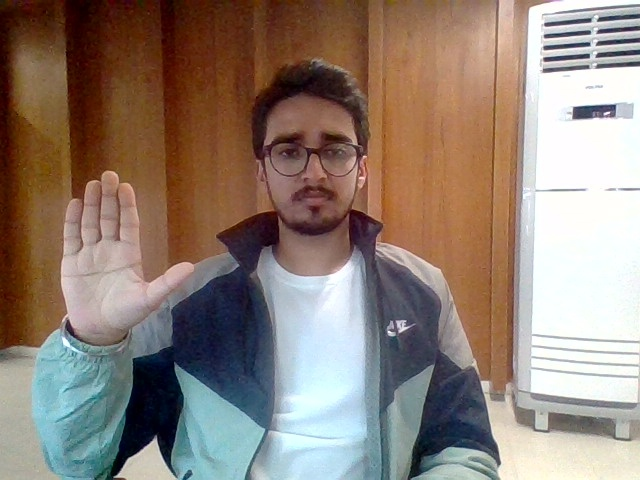HELLO: (56, 167, 200, 331)
